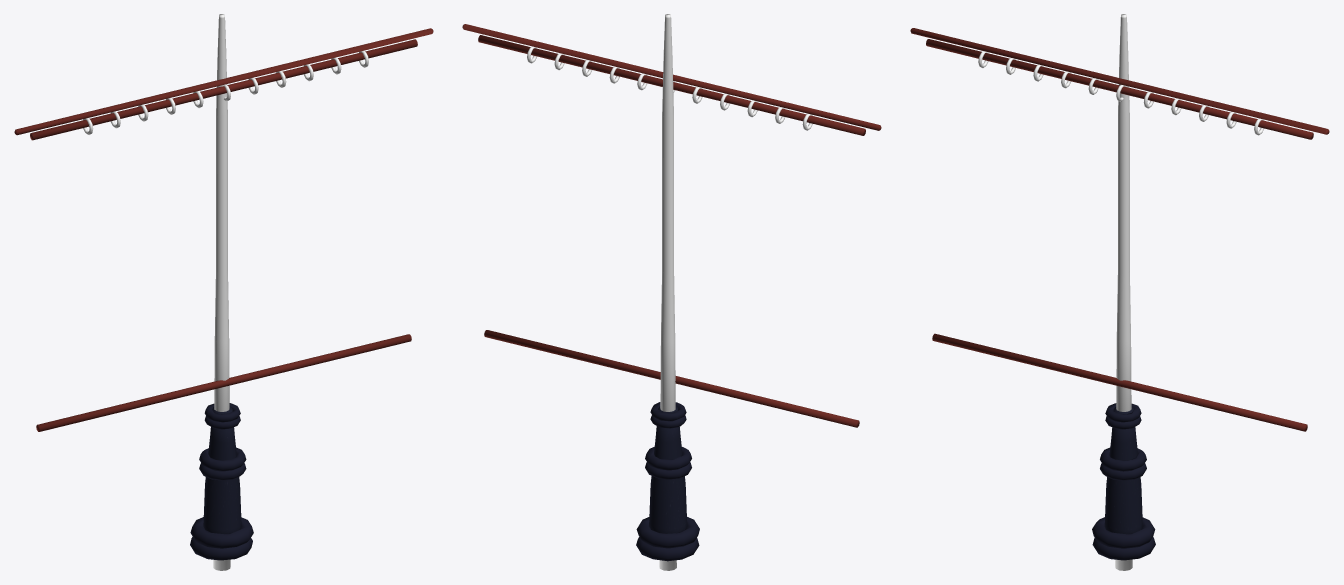
The model's file is FrontPole.fbx.
3 views of the same model, side by side, from view 1: azimuth 30°, elevation 25°; view 2: azimuth 150°, elevation 25°; view 3: azimuth 330°, elevation 25° (orthographic).
Visible parts, largest first — view 1: FrontPole_LOD0; view 2: FrontPole_LOD0; view 3: FrontPole_LOD0.
Boxes of the visible parts, x1,y1,x2,y2 form: FrontPole_LOD0: (14, 14, 433, 570); FrontPole_LOD0: (462, 14, 881, 570); FrontPole_LOD0: (910, 14, 1329, 570).
Size of what is drawn, in the model's own units: 26.3 by 33.23 by 3.54.
Materials: 4 (1 with a texture image).
